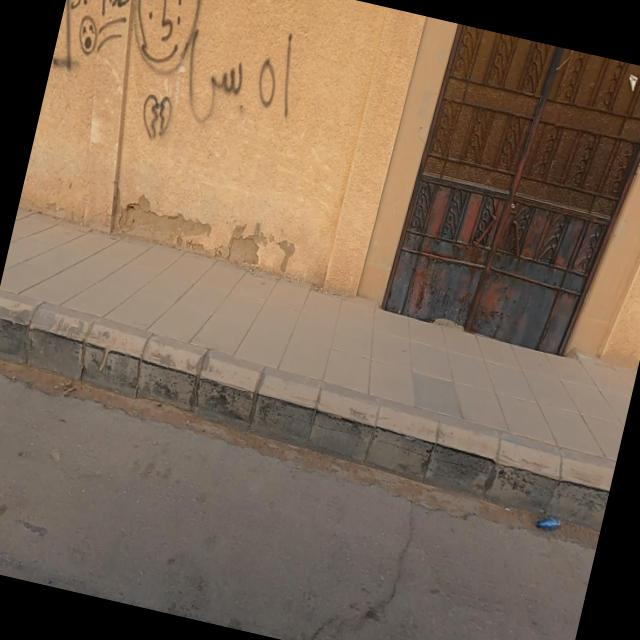Graffiti: (40, 1, 317, 168)
